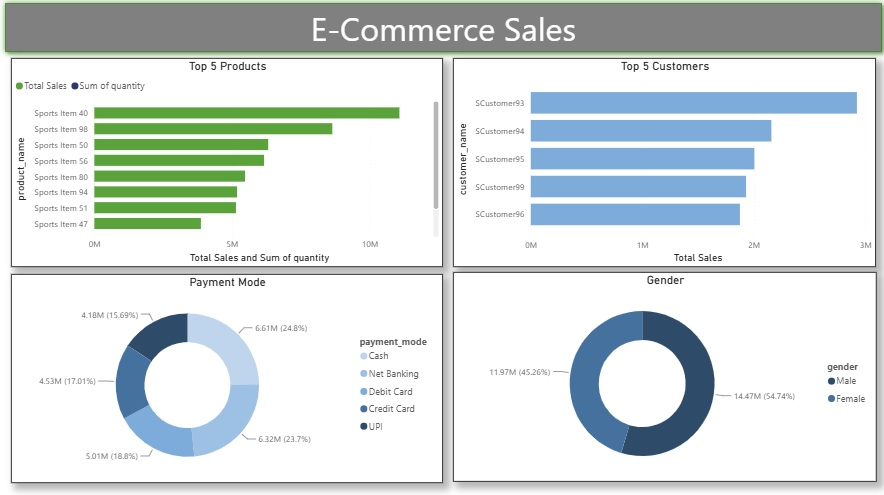

Layout of this report page (visuals, bound fields, positions):
{"tool":"powerbi","page":{"name":"E-Commerce Sales 1","canvas":[1280,720],"ordinal":1},"visuals":[{"type":"shape","box":[0,0,1280.2,87.8],"z":0},{"type":"barChart","title":"Top 5 Products","fields":{"Category":["ecommerce products.product_name"],"Y":["ecommerce customers.Total Sales","Sum(ecommerce orders.quantity)"]},"box":[17.3,87.8,622.1,301],"z":1000},{"type":"donutChart","title":"Payment Mode","fields":{"Y":["ecommerce customers.Total Sales"],"Category":["ecommerce orders.payment_mode"]},"box":[17.3,398.9,622.1,301],"z":2000},{"type":"barChart","title":"Top 5 Customers","fields":{"Y":["ecommerce customers.Total Sales"],"Category":["ecommerce customers.customer_name"]},"box":[653.8,87.8,609.1,301],"z":3000},{"type":"donutChart","title":"Gender","fields":{"Y":["ecommerce customers.Total Sales"],"Category":["ecommerce customers.gender"]},"box":[653.4,396.4,609.8,302.4],"z":4000}]}

Visuals, with their boxes in screenshot pixels (x1, y1, x2, y2), scaled from the page's 1280x720 canvas onto the 884x495 screenshot:
shape: 0:0:883:60
"Top 5 Products" barChart: 12:60:442:267
"Payment Mode" donutChart: 12:274:442:481
"Top 5 Customers" barChart: 452:60:872:267
"Gender" donutChart: 451:273:872:480
